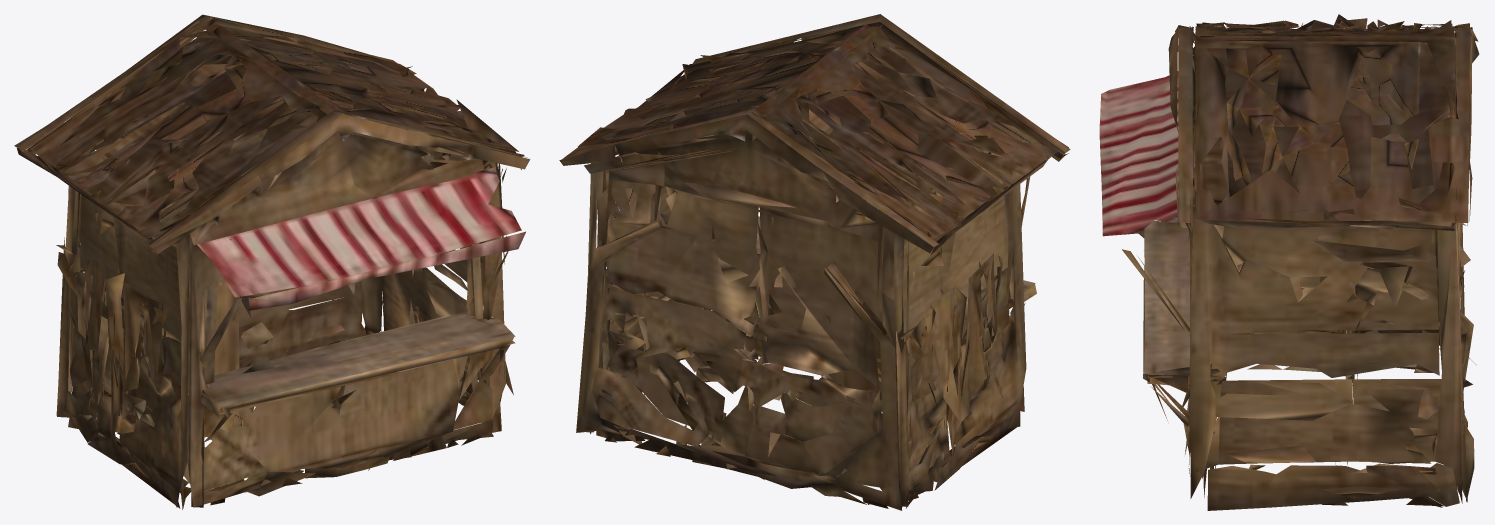
Rendered from jahrmarkt_bude.glb.
The picture shows the model from 3 angles, left to right: view 1: azimuth 30°, elevation 25°; view 2: azimuth 150°, elevation 25°; view 3: azimuth 270°, elevation 25°; orthographic projection. The views are drawn at different scales.
Parts seen in each view (by area): view 1: Prop; view 2: Prop; view 3: Prop.
Boxes of the visible parts, x1,y1,x2,y2 form: Prop: [14, 14, 529, 509]; Prop: [559, 14, 1070, 510]; Prop: [1099, 14, 1479, 510].
Bounding box in the file's own units: 1.08 × 1.01 × 0.8814.
1 material, 1 textured.
